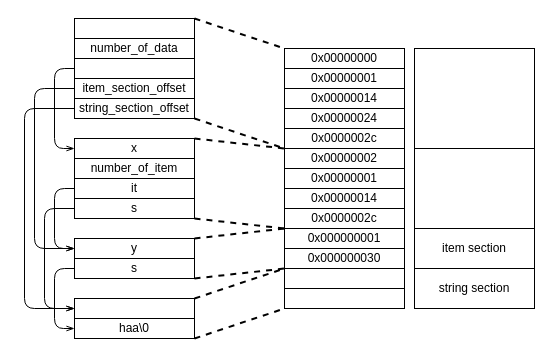
This 552x357 diagram has some shape labels left out. Here are the shapes that lost their labels. From the top down, the centre of each, then its label:
the point at 134,28: version
the point at 134,68: data_section_offset
the point at 474,98: header section
the point at 474,188: data section
the point at 344,278: 0x77616100
the point at 344,298: 0x68616100
the point at 134,308: waa\0
